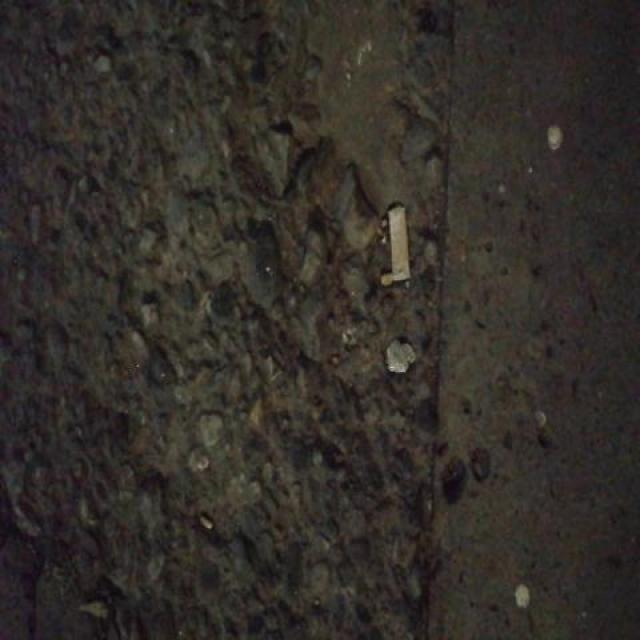non-organic waste: (385, 198, 415, 291)
